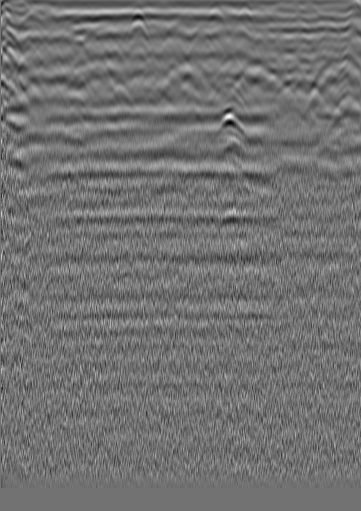가스: (211, 103, 256, 136)
상수: (318, 27, 338, 47)
오수: (19, 29, 39, 49)
우수: (176, 27, 196, 47)
